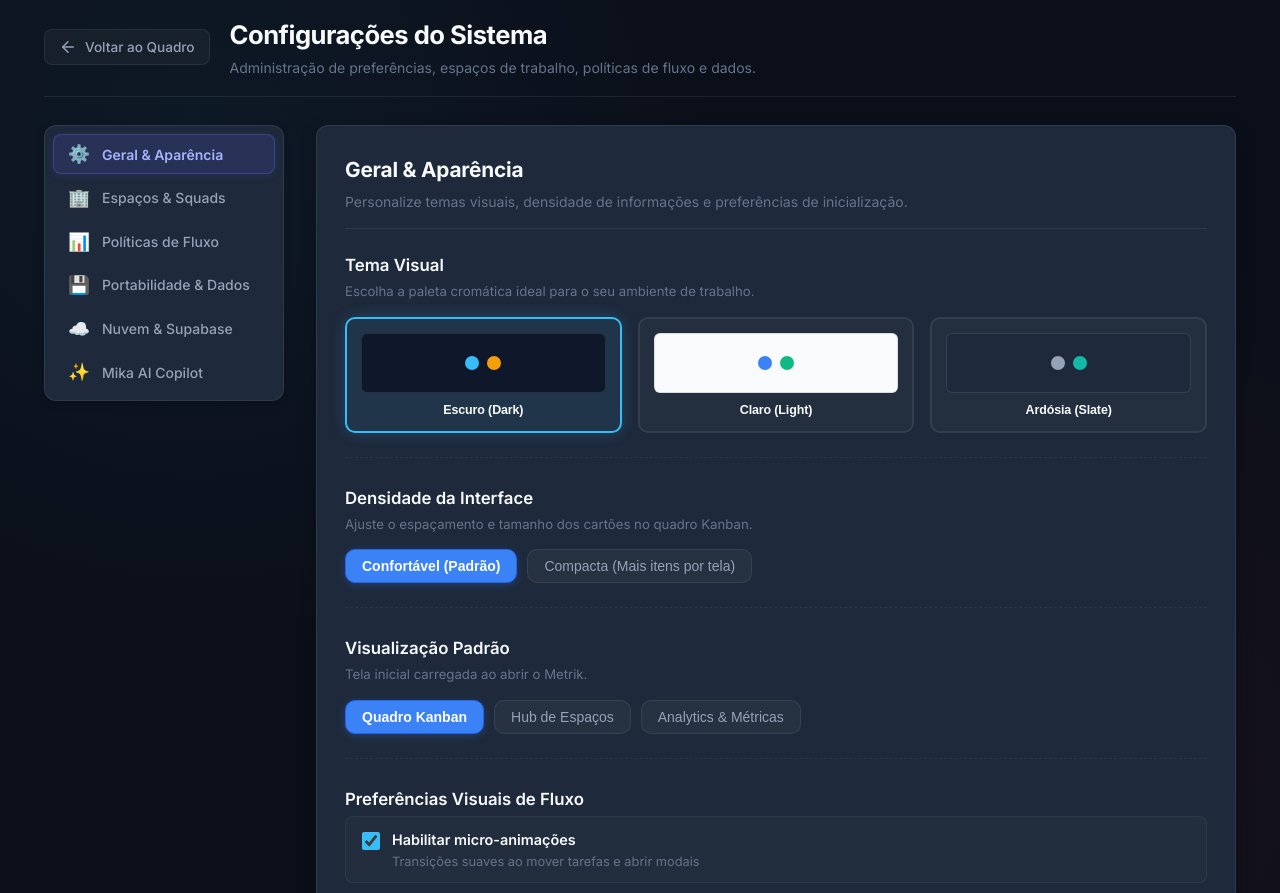
Test: SettingsView Component (Feature 029 - US2 Separate Settings) › switches tabs and displays corresponding settings content
Expected: the heading "Tema Visual" is shown, [345,255,444,275]
# Click on Workspaces & Squads tab
Click the tab "🏢 Espaços & Squads" at (164, 198), box [53,178,275,218]
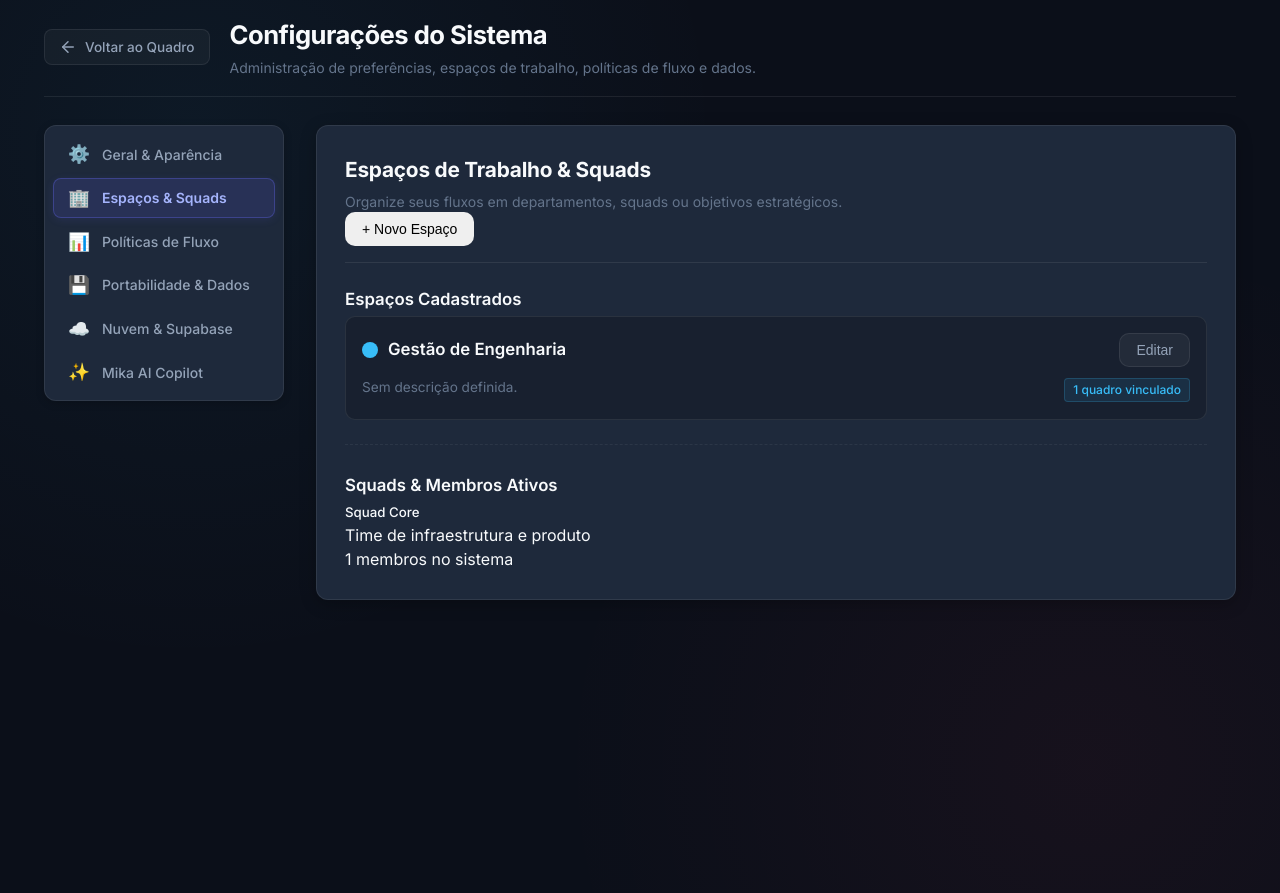
Result: the heading "Gestão de Engenharia" is shown at [388,338,566,363]
# Click on Flow Policies tab
Click the tab "📊 Políticas de Fluxo" at (164, 241), box [53,222,275,261]
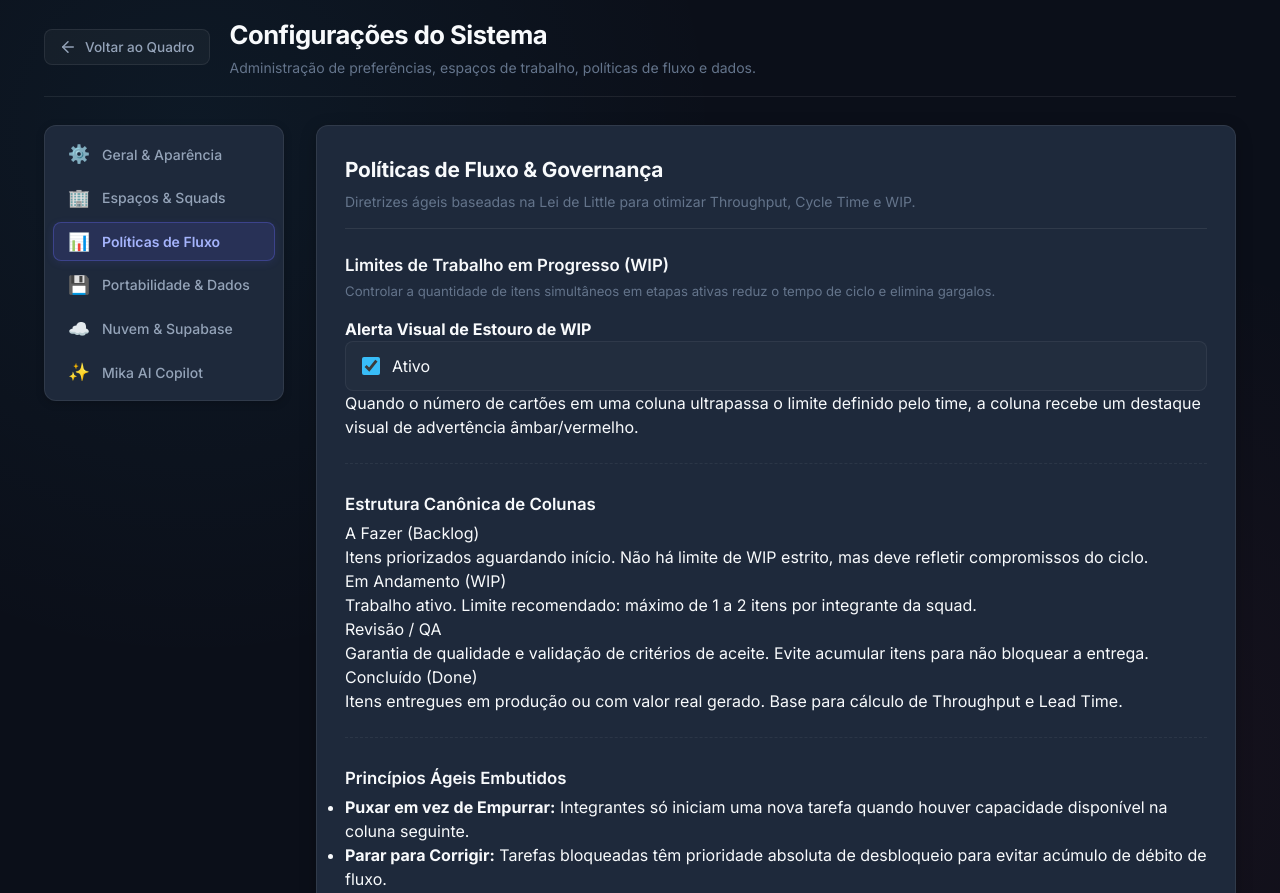
Result: the heading "Limites de Trabalho em Progresso (WIP)" is shown at [345,255,669,275]
# Click on Data Portability tab
Click the tab "💾 Portabilidade & Dados" at (164, 285), box [53,265,275,305]
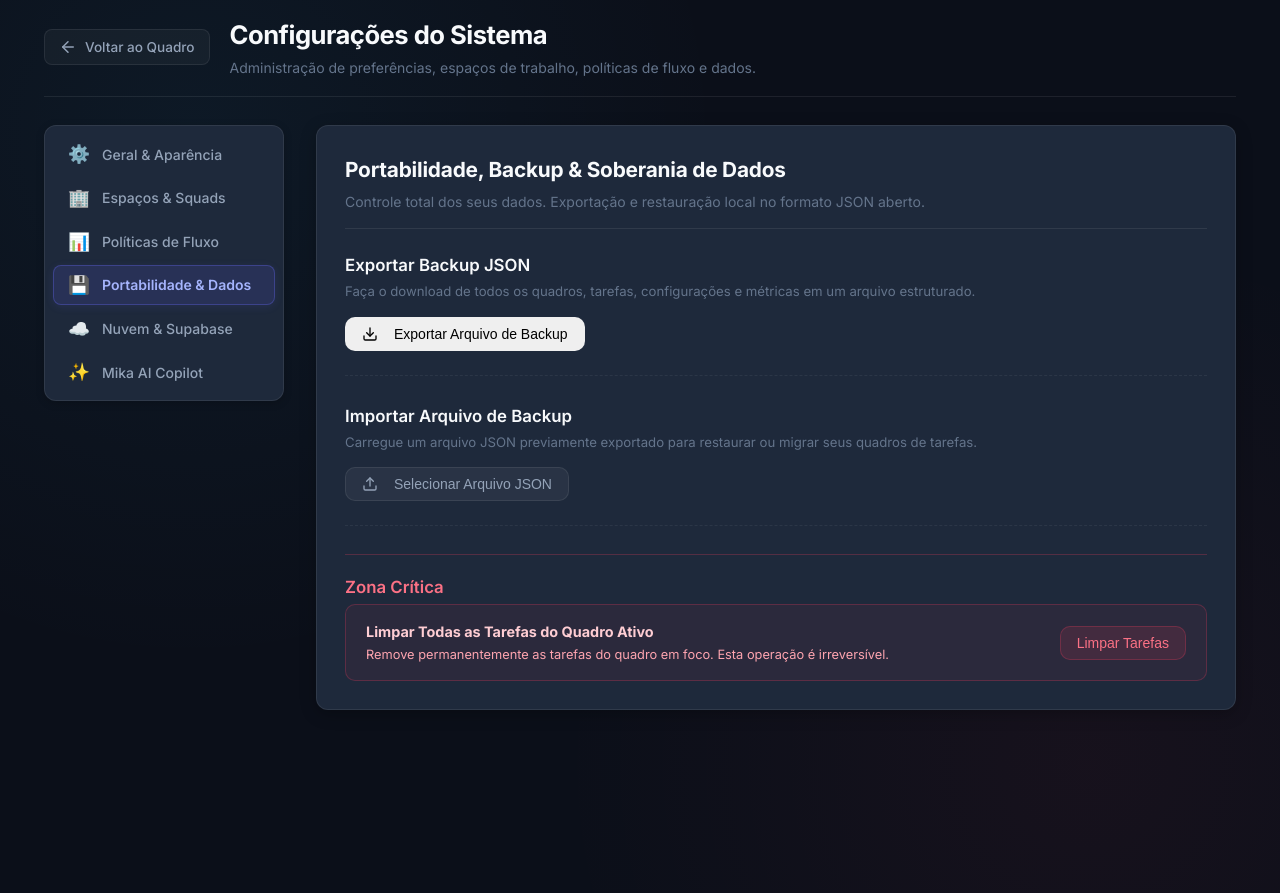
Result: the heading "Exportar Backup JSON" is shown at [345,255,530,275]
